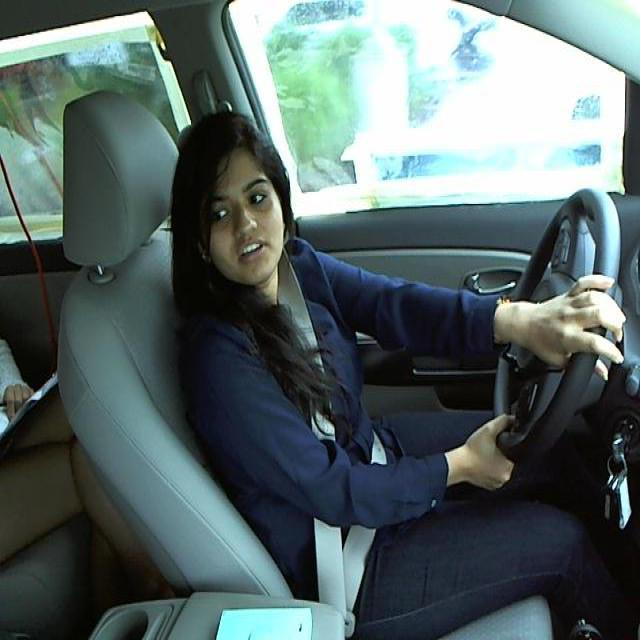seatbelt: (300, 294, 380, 610)
